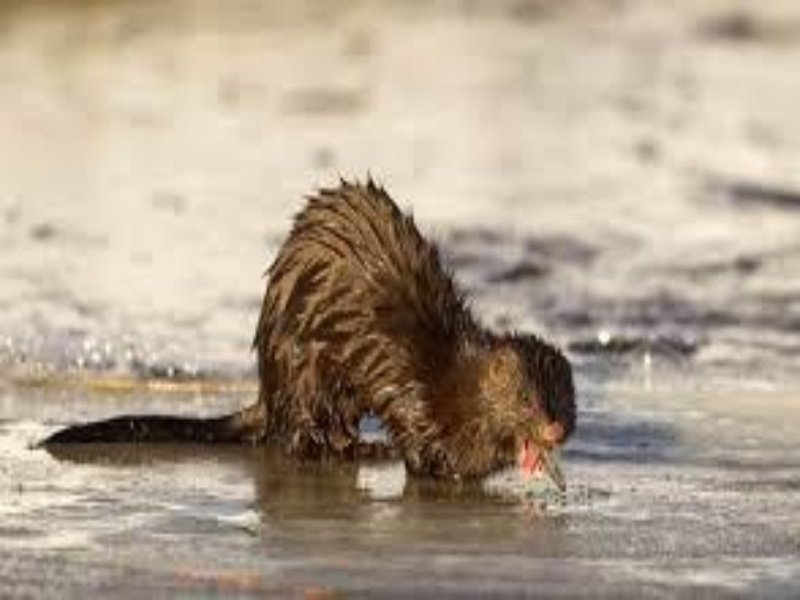minkish: (26, 163, 581, 504)
